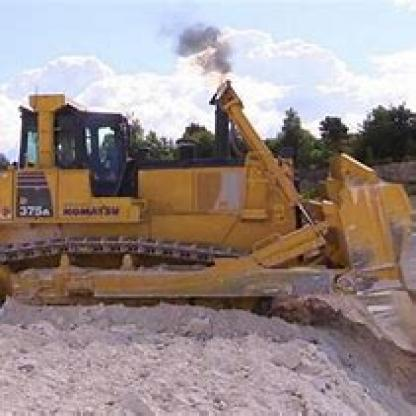bull_dozer/loader/grader: (0, 79, 414, 368)
